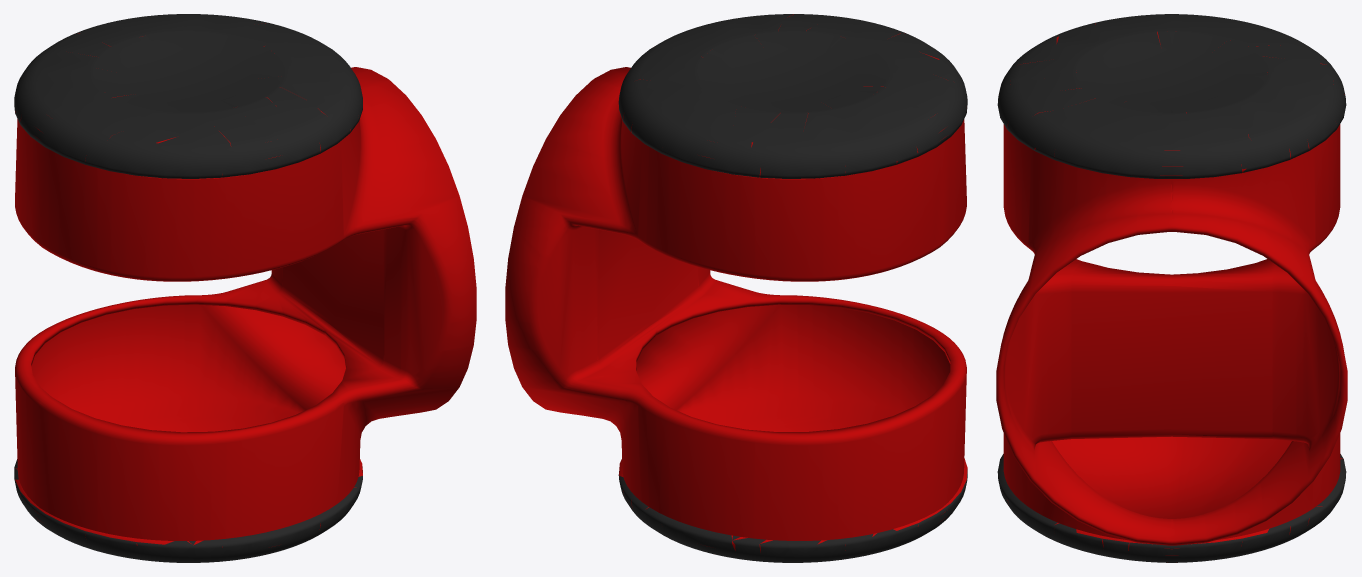
The picture shows the model from 3 angles, left to right: view 1: azimuth 30°, elevation 25°; view 2: azimuth 150°, elevation 25°; view 3: azimuth 270°, elevation 25°; orthographic projection.
Parts seen in each view (by area): view 1: E1; view 2: E1; view 3: E1.
Part boxes in pixels (x1=…): E1: x1=14, y1=14, x2=476, y2=562; E1: x1=505, y1=14, x2=967, y2=562; E1: x1=996, y1=14, x2=1347, y2=562.
Size of the model in its own units: 0.1608 by 0.1893 by 0.1394.
